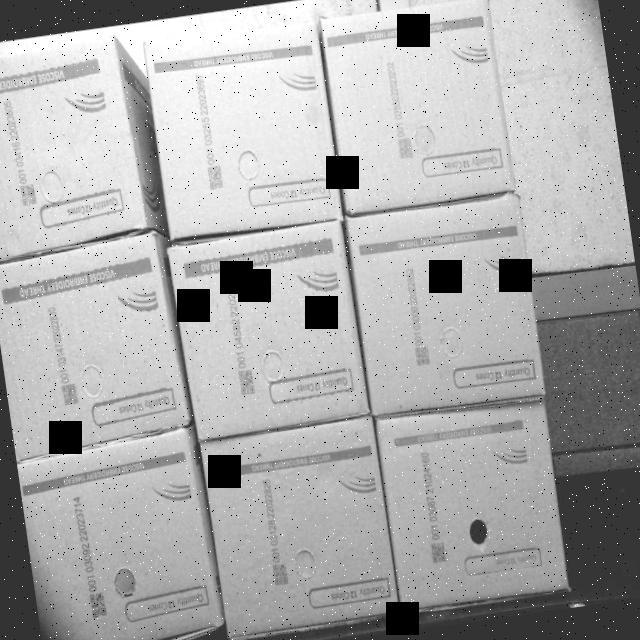box: (348, 192, 550, 416), (145, 20, 343, 246), (168, 222, 370, 441), (16, 432, 226, 640), (0, 237, 192, 460), (200, 416, 400, 630), (378, 400, 573, 609), (322, 0, 515, 210), (0, 35, 149, 252)
